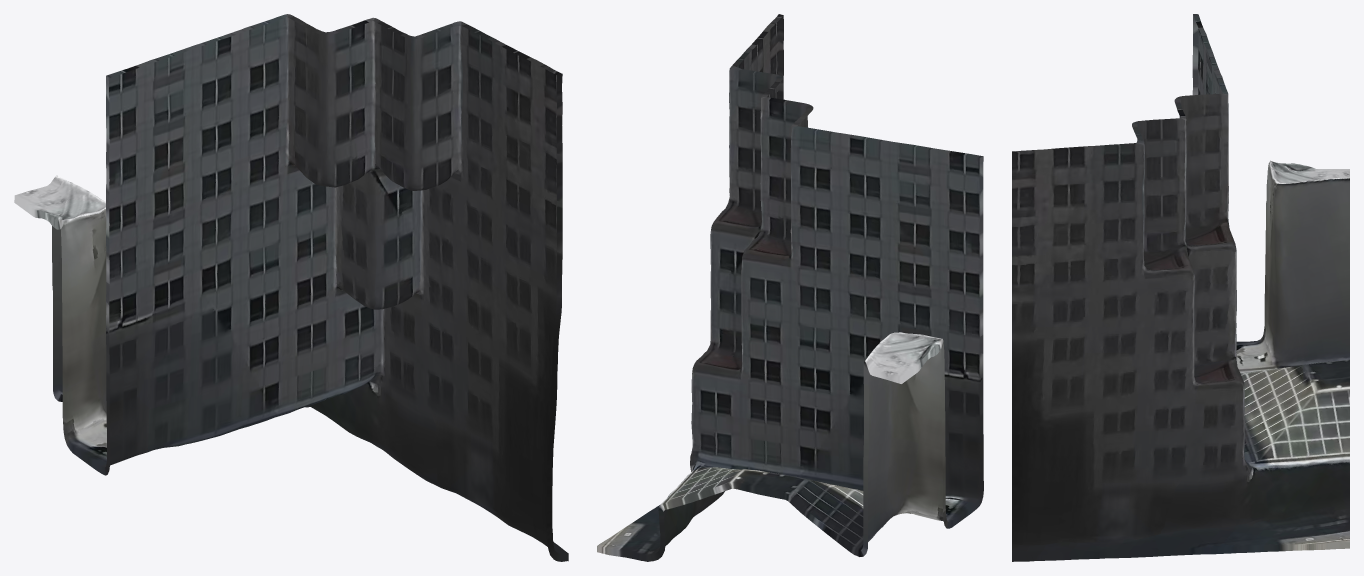
File: z20-167762-405238-h0-yup-uvflip-v3-world.glb
3 renders of one model, left to right at view 1: azimuth 30°, elevation 25°; view 2: azimuth 150°, elevation 25°; view 3: azimuth 270°, elevation 25°, orthographic. The views are drawn at different scales.
Size of the model in its own units: 30.2 by 40.2 by 30.32.
Materials: 1 (1 with a texture image).
